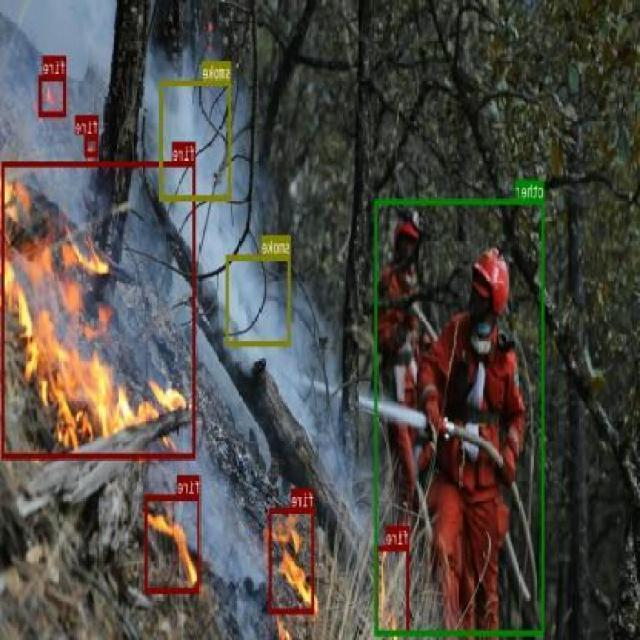Fire: (2, 160, 196, 457), (144, 493, 202, 592), (270, 507, 315, 613), (376, 544, 410, 634), (39, 73, 67, 116), (86, 134, 100, 156)
Smoke: (160, 78, 232, 200), (226, 253, 292, 344)
